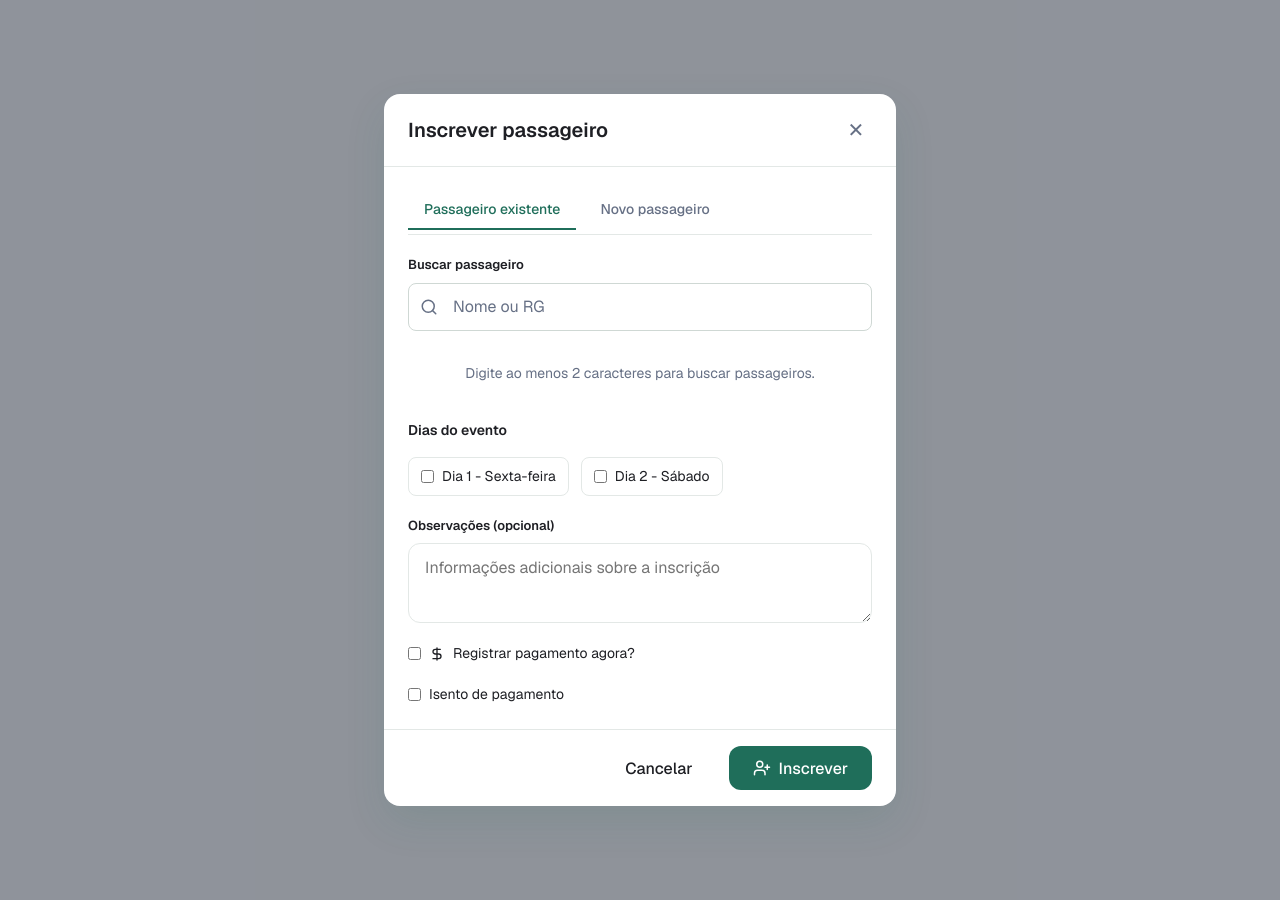
EnrollPassengerModal › mostra campos de novo passageiro ao trocar aba
What coordinates should you click on to do the following:
click the button "Novo passageiro"
I would click on:
 (655, 210)
Its box is x1=584 y1=191 x2=726 y2=230.
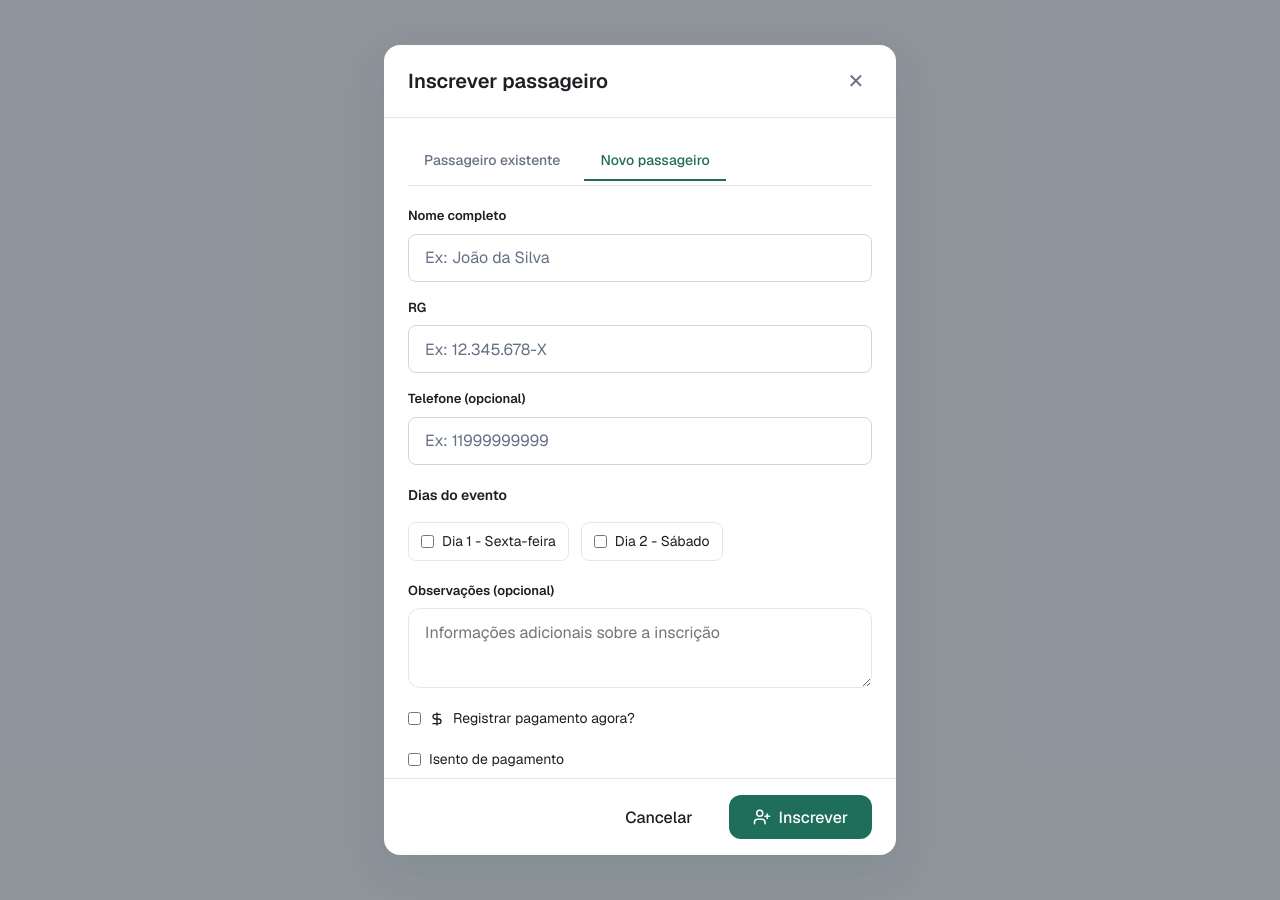
Now the field labelled "Nome completo" is shown, box x1=408 y1=234 x2=872 y2=282
Now the field labelled "RG" is shown, box x1=408 y1=325 x2=872 y2=373
Now the field labelled "Telefone (opcional)" is shown, box x1=408 y1=416 x2=872 y2=464
